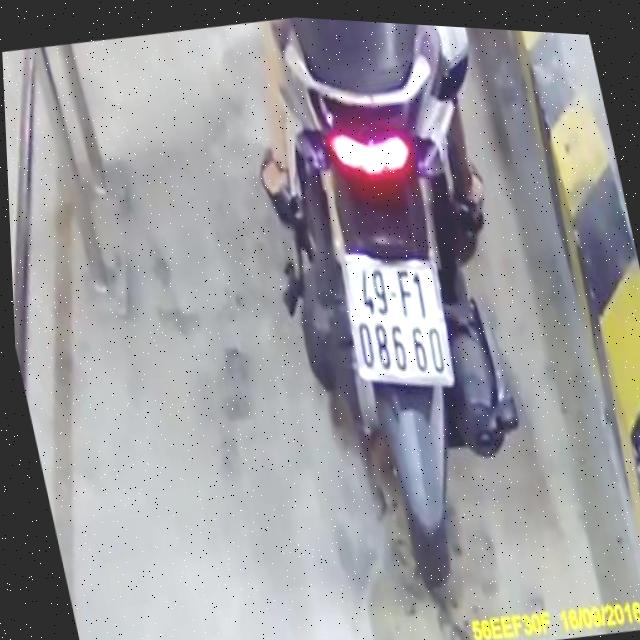motorcycle: (229, 14, 564, 624)
plate: (326, 236, 465, 407)
